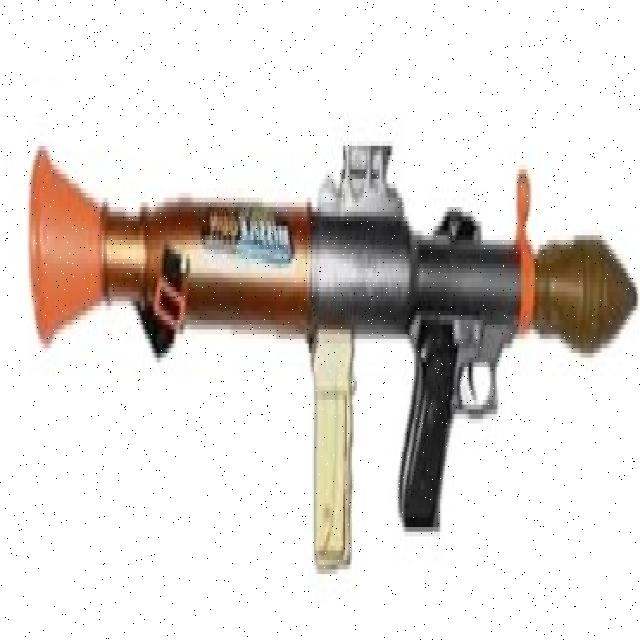bazooka: (19, 132, 639, 581)
